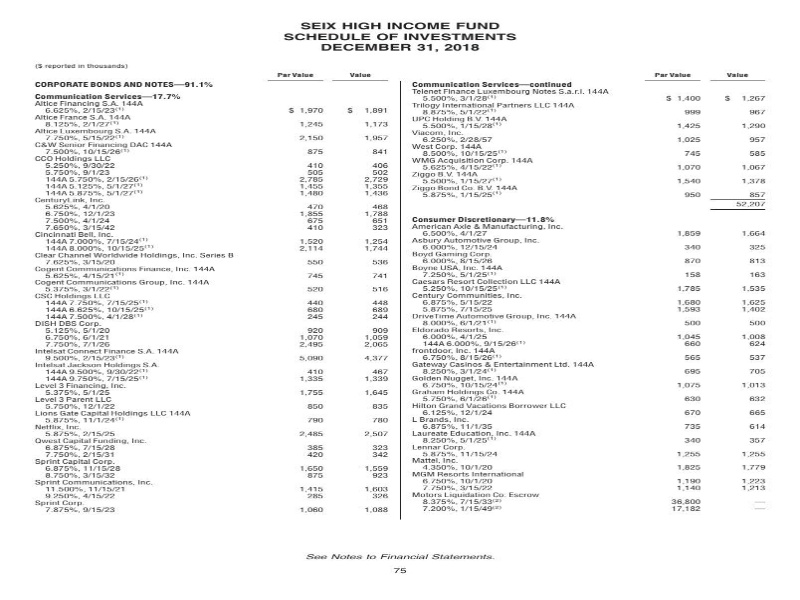table: (392, 62, 791, 528), (24, 55, 408, 534)
